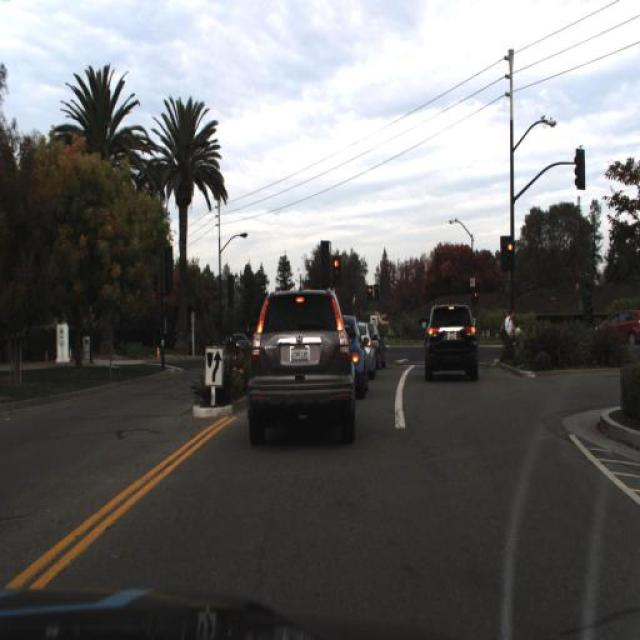car: (246, 292, 353, 446), (421, 303, 480, 382), (587, 304, 639, 351), (353, 319, 371, 401)
trafficLight: (501, 308, 517, 362), (504, 309, 515, 349)
trafficLight-RedLeft: (331, 258, 344, 283), (332, 254, 341, 288), (504, 238, 514, 268)
